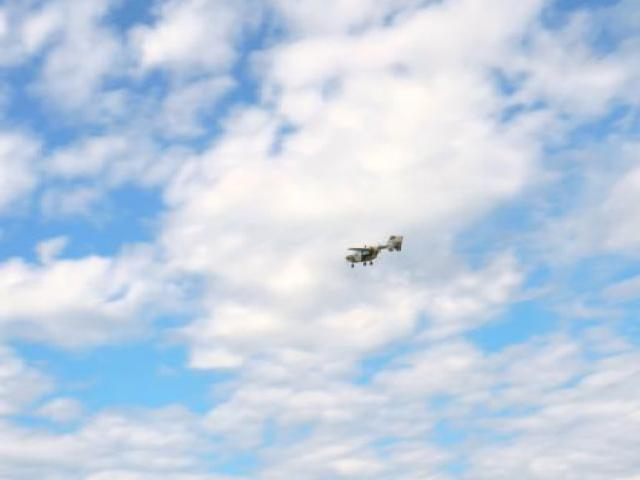uav: (343, 231, 406, 267)
